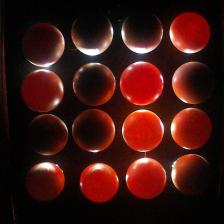fertile: (72, 62, 117, 107), (72, 108, 116, 154), (20, 23, 65, 67), (71, 10, 114, 56), (121, 9, 164, 54), (172, 61, 215, 104), (26, 113, 69, 156), (24, 161, 66, 202), (172, 154, 212, 197)
infertile: (119, 60, 164, 106), (20, 69, 65, 112), (169, 11, 211, 54), (122, 110, 164, 153), (170, 107, 212, 150), (126, 157, 167, 200), (80, 163, 119, 203)
